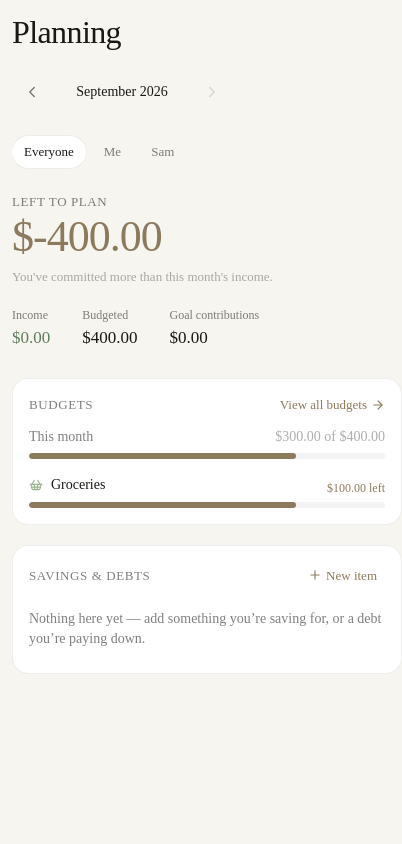
Planning hub — whose money (spec 051) › re-scopes the figures to one person’s share
Expected: the text "$150.00" is not shown
Expected: the text "$200.00" is not shown
Click the tab "Me" at (112, 152), box [92, 136, 133, 168]
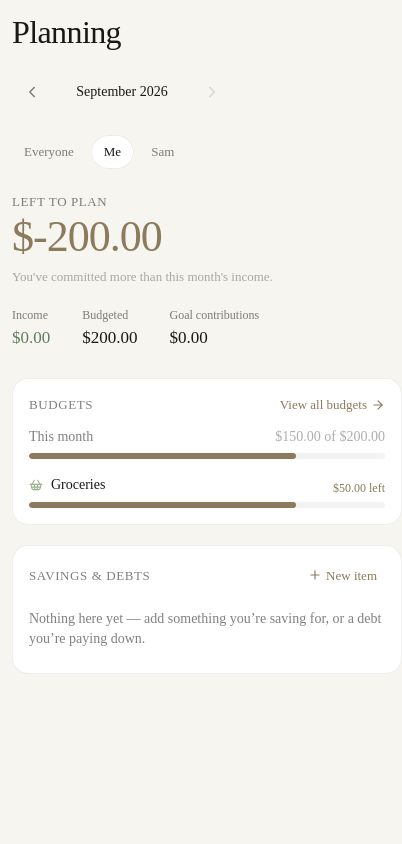
Result: the text "$150.00" is shown at [275, 428, 321, 444]
Result: the text "$200.00" is shown at [82, 324, 138, 350]
Result: the text "$400.00" is gone
